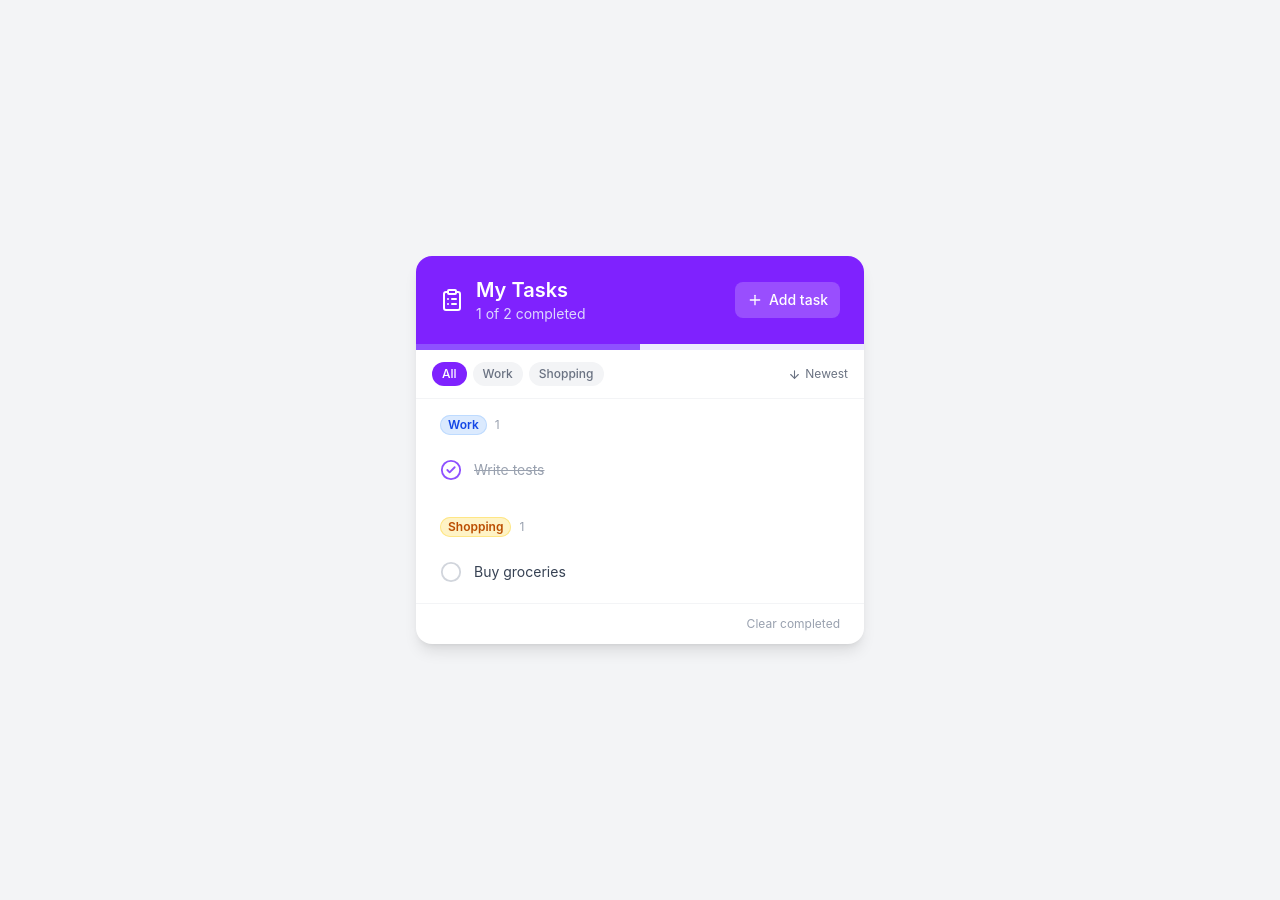
Test: TodoList › opens modal when Add task button is clicked
Click the button "Add task" at (788, 300), box [735,282,840,318]
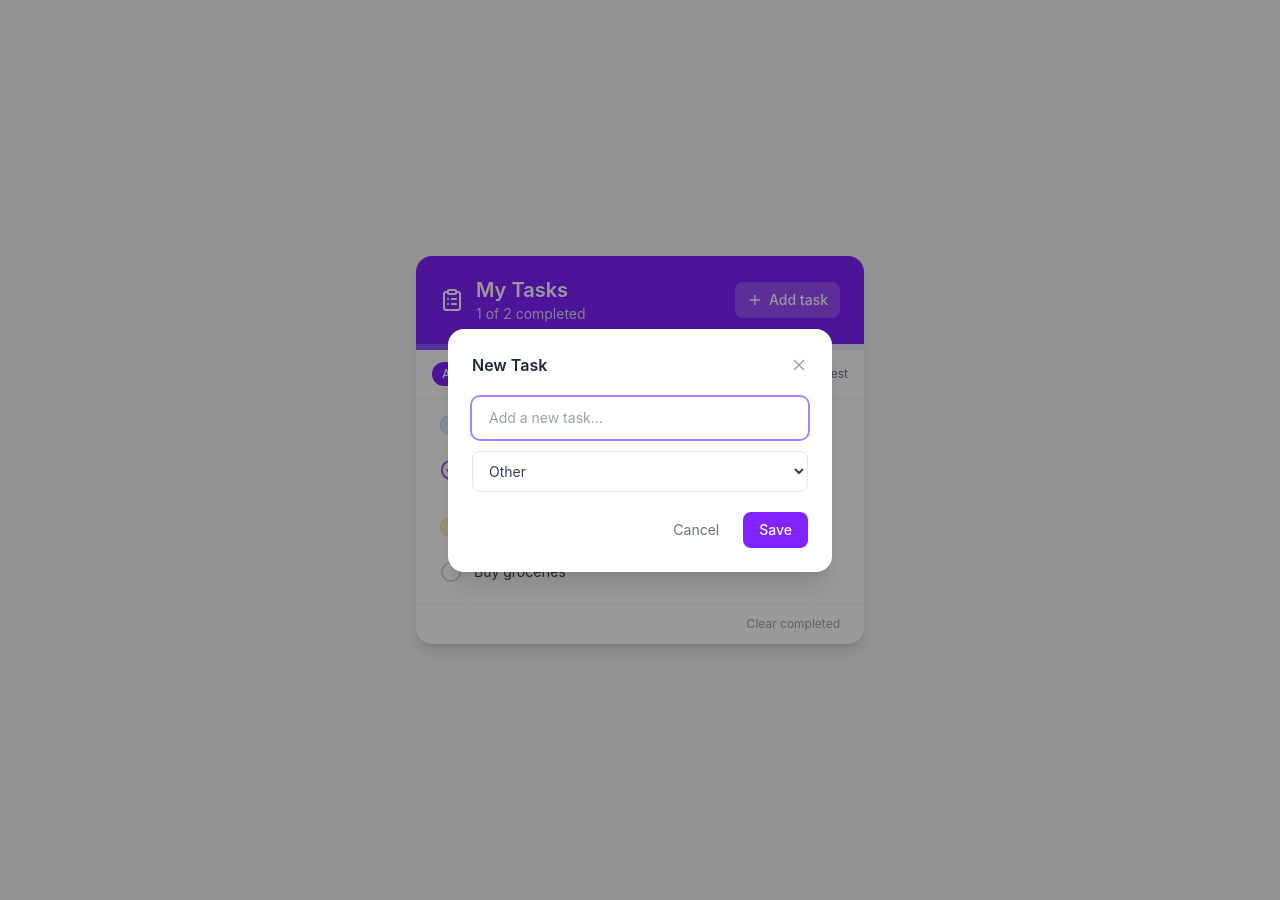
Result: the heading "New Task" is shown at [472,352,547,376]
Result: the field with placeholder "Add a new task…" is shown at [472,396,808,438]
